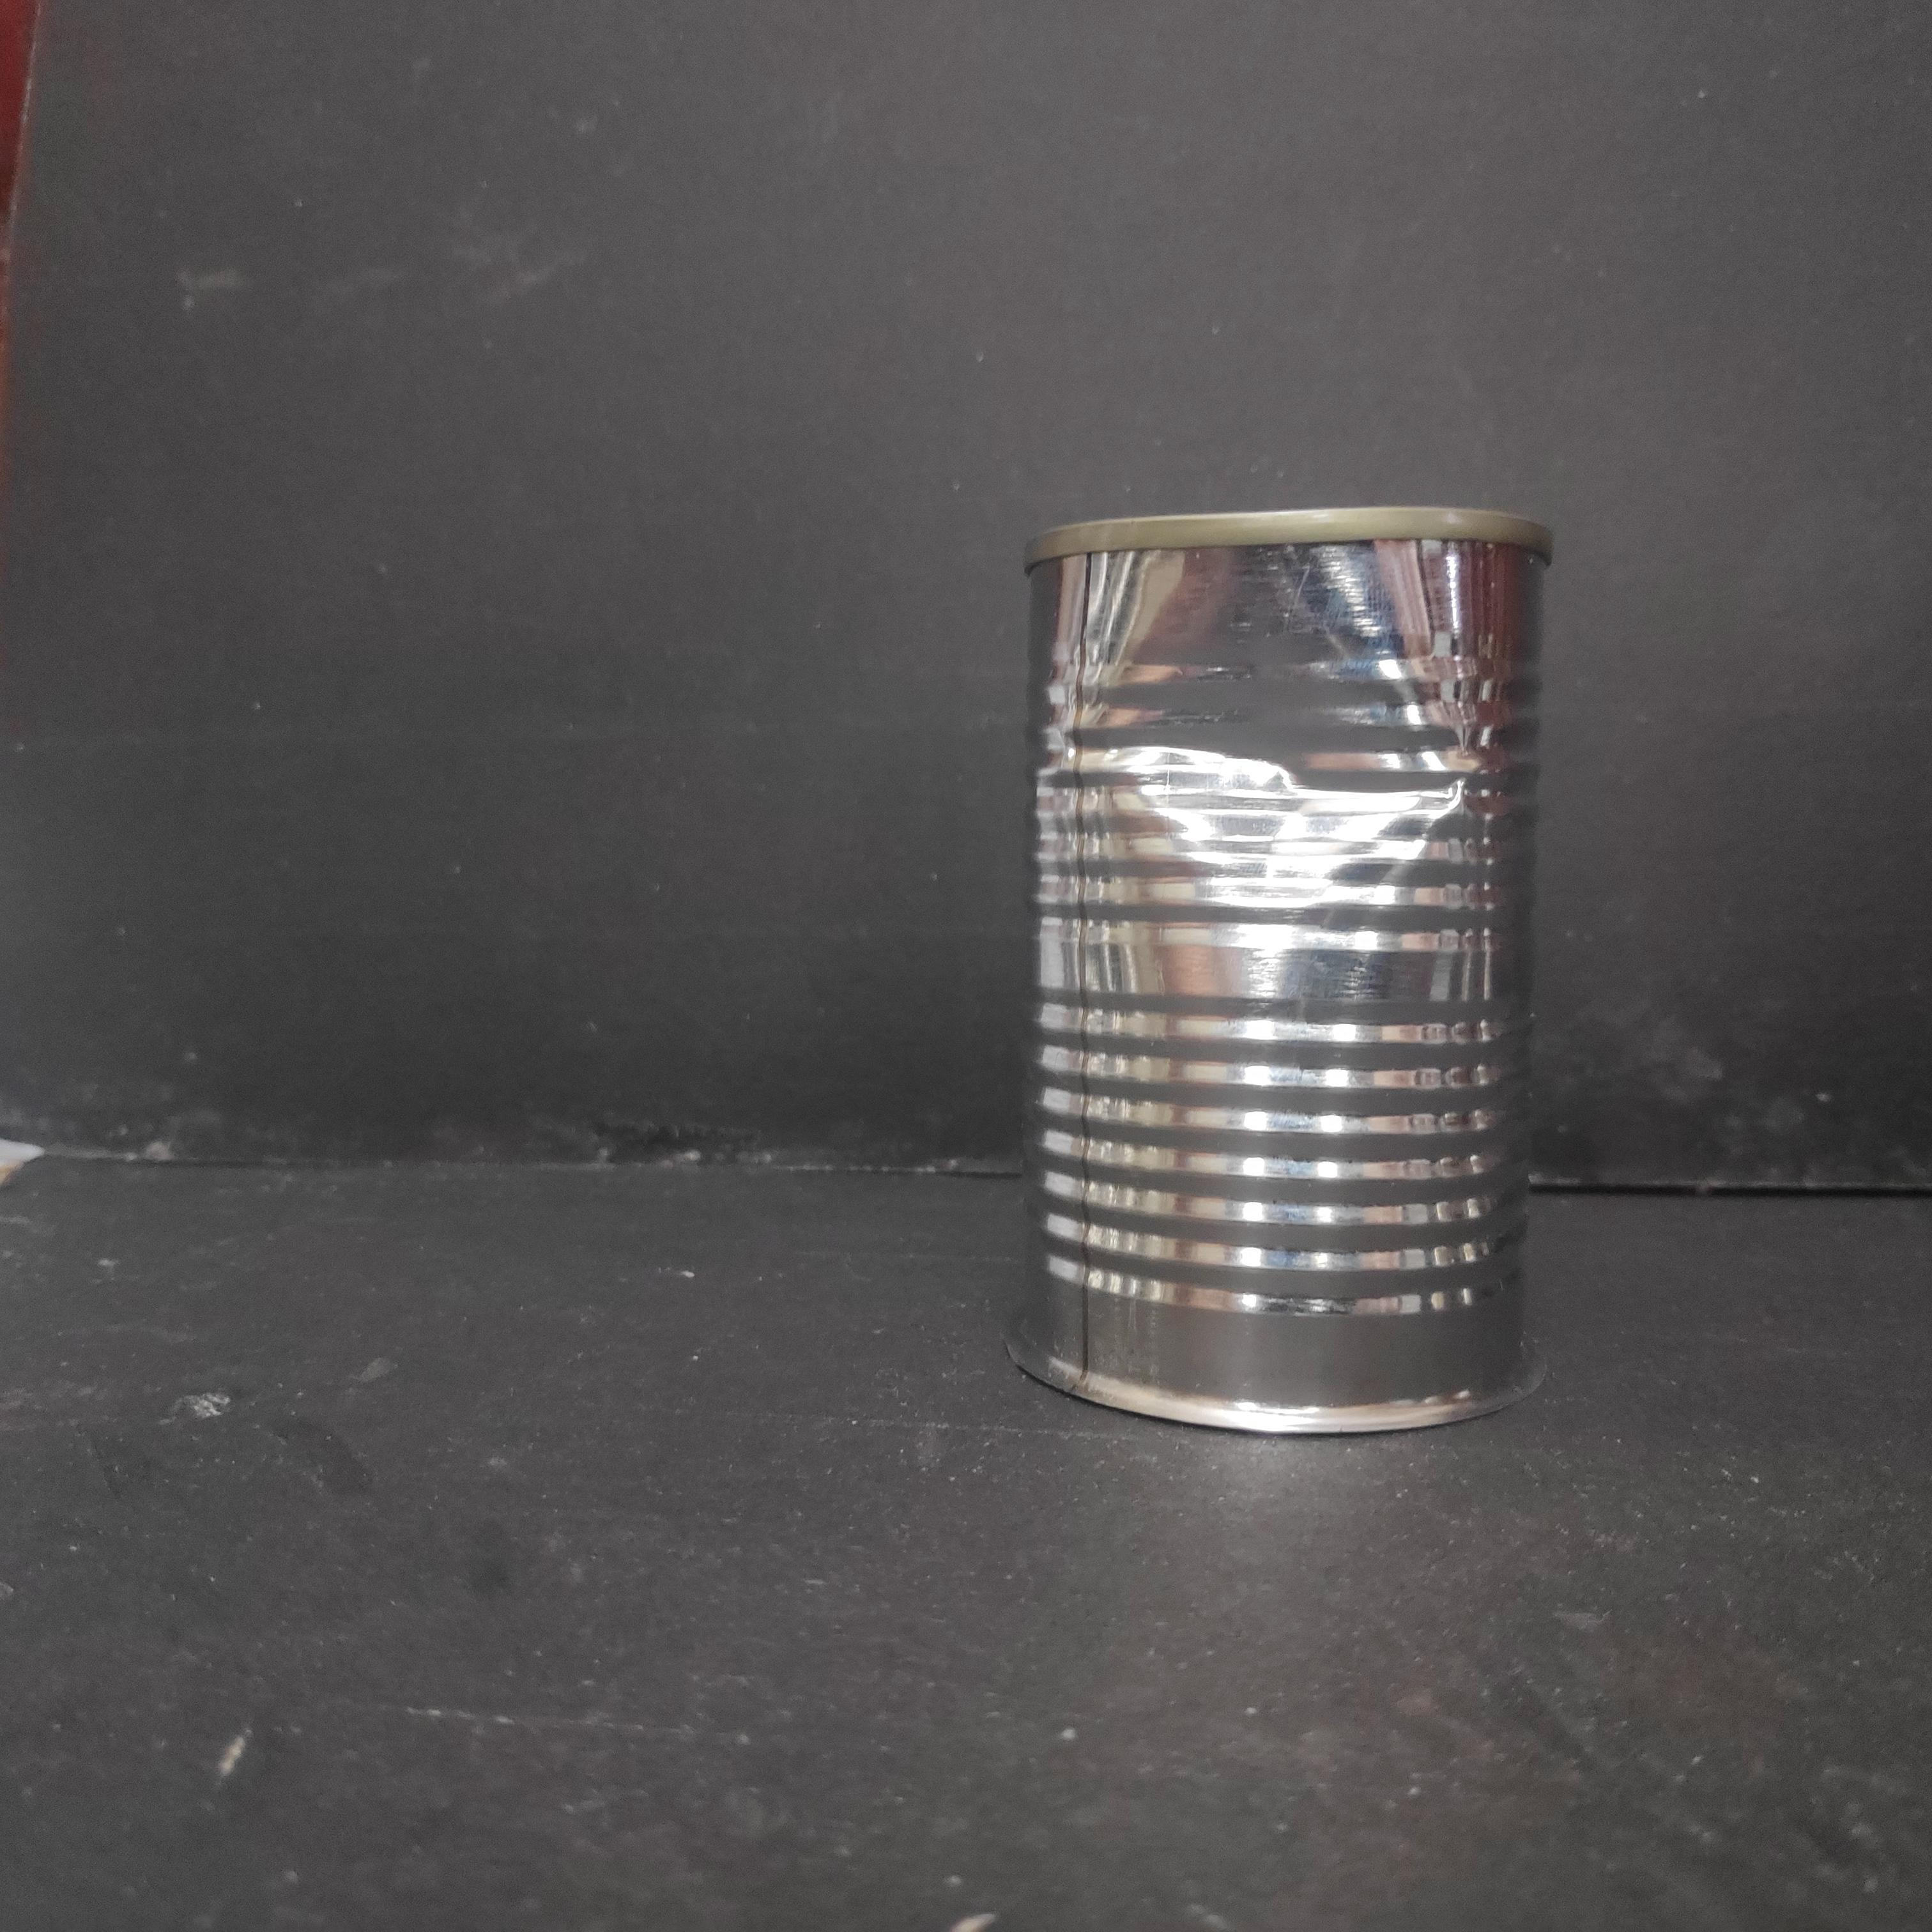Minor Defect: (1014, 490, 1559, 1451)
